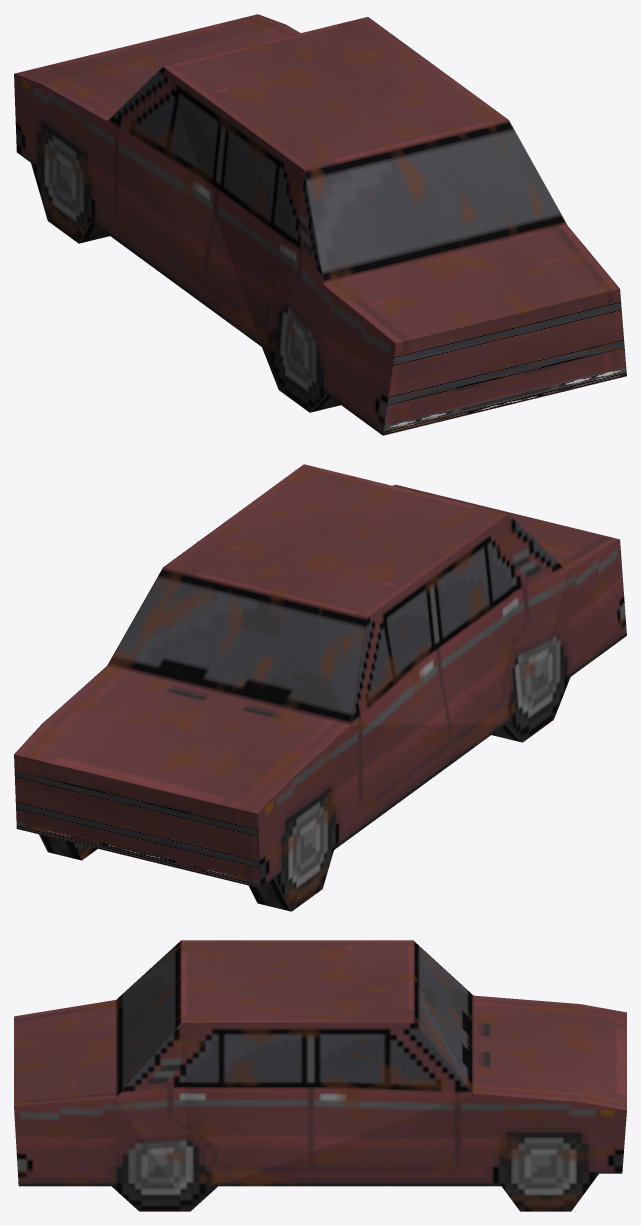
File: real_vaz2106.glb
3 renders of one model, top to bottom at view 1: azimuth 30°, elevation 25°; view 2: azimuth 150°, elevation 25°; view 3: azimuth 270°, elevation 25°, orthographic. The views are drawn at different scales.
Parts seen in each view (by area): view 1: hull; view 2: hull; view 3: hull.
Part boxes in pixels (<box>): hull: <box>14,14,626,435</box>; hull: <box>14,464,626,911</box>; hull: <box>14,940,626,1211</box>.
Size of the model in its own units: 0.7955 by 0.6841 by 2.1.
Materials: 1 (1 with a texture image).
